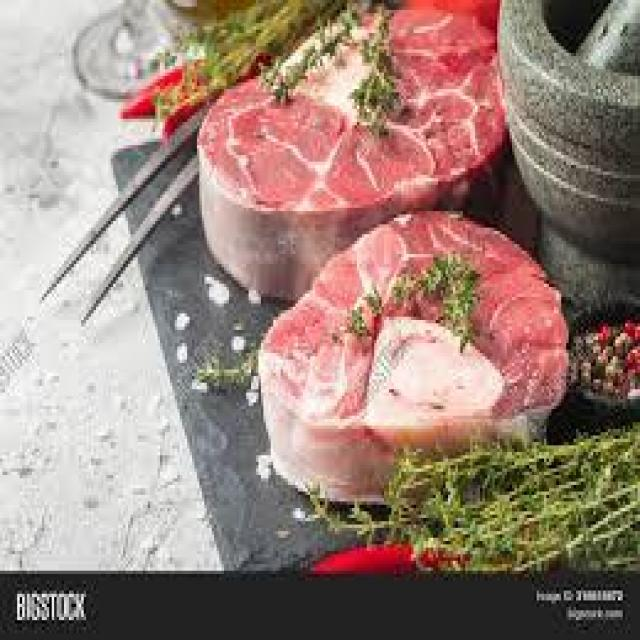Beef: (275, 340, 564, 441)
